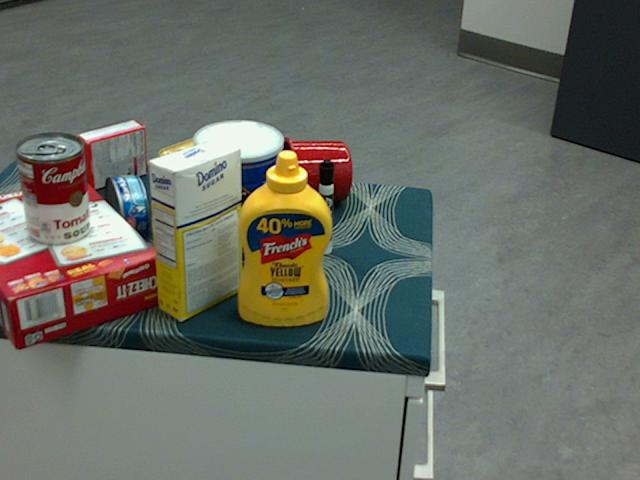cracker_box: (0, 174, 163, 349)
gelatin_box: (77, 119, 146, 190)
large_marker: (318, 159, 334, 253)
master_chef_can: (191, 118, 281, 263)
mug: (274, 135, 351, 207)
mustard_bottle: (238, 149, 332, 325)
potted_meat_can: (156, 130, 236, 221)
sugar_box: (147, 138, 243, 320)
tomato_soup_can: (15, 132, 90, 245)
tuna_fish_can: (102, 174, 148, 247)
